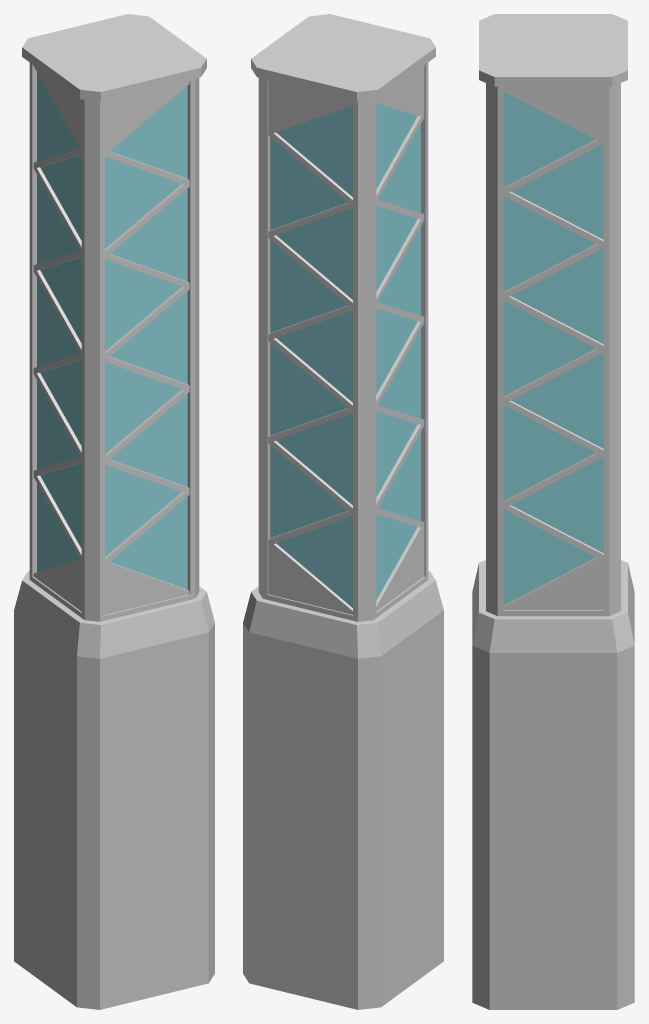
The model's file is BuildingB.fbx.
3 renders of one model, left to right at view 1: azimuth 30°, elevation 25°; view 2: azimuth 150°, elevation 25°; view 3: azimuth 270°, elevation 25°, orthographic.
Parts seen in each view (by area): view 1: Building; view 2: Building; view 3: Building.
Part boxes in pixels (x1=…): Building: x1=14, y1=14, x2=214, y2=1009; Building: x1=243, y1=14, x2=443, y2=1009; Building: x1=472, y1=14, x2=634, y2=1009.
Size of the model in its own units: 2031 by 12855 by 2031.
